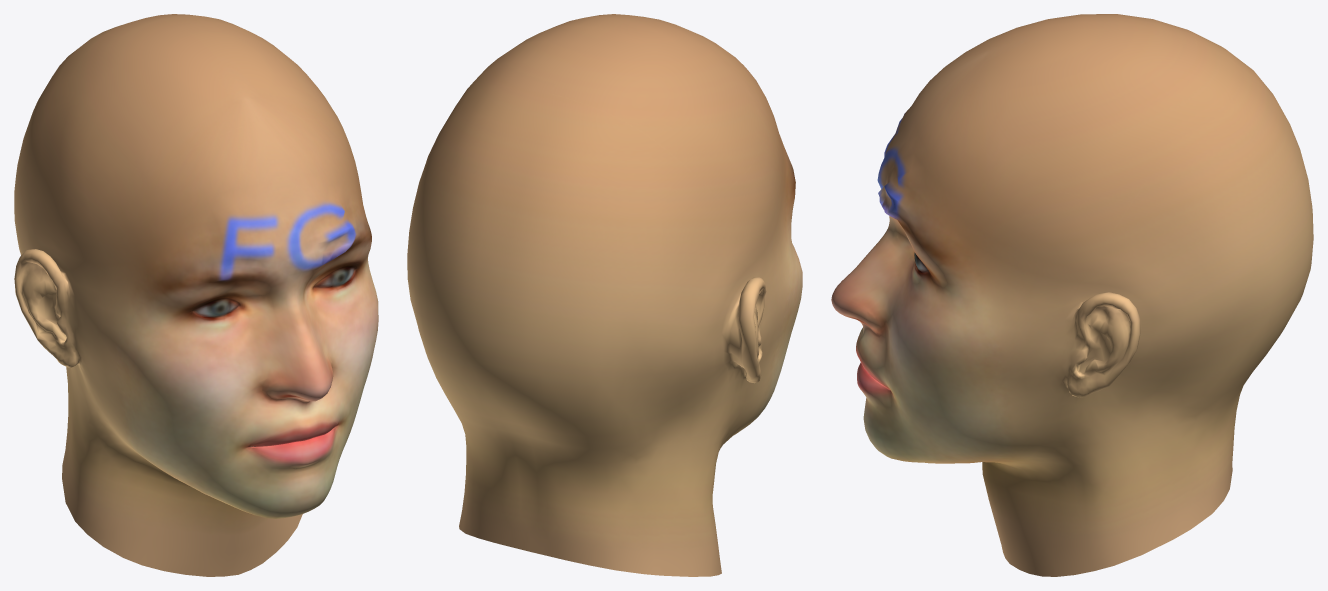
Rendered from avg_anyrace_female_15.obj.
3 views of the same model, side by side, from view 1: azimuth 30°, elevation 25°; view 2: azimuth 150°, elevation 25°; view 3: azimuth 270°, elevation 25° (orthographic). The views are drawn at different scales.
Visible parts, largest first — view 1: HeadHires; view 2: HeadHires; view 3: HeadHires.
Boxes of the visible parts, x1,y1,x2,y2 form: HeadHires: (14, 14, 378, 576); HeadHires: (407, 14, 802, 576); HeadHires: (831, 14, 1313, 576).
Size of the model in its own units: 187 by 283 by 236.
3 materials, 3 textured.
